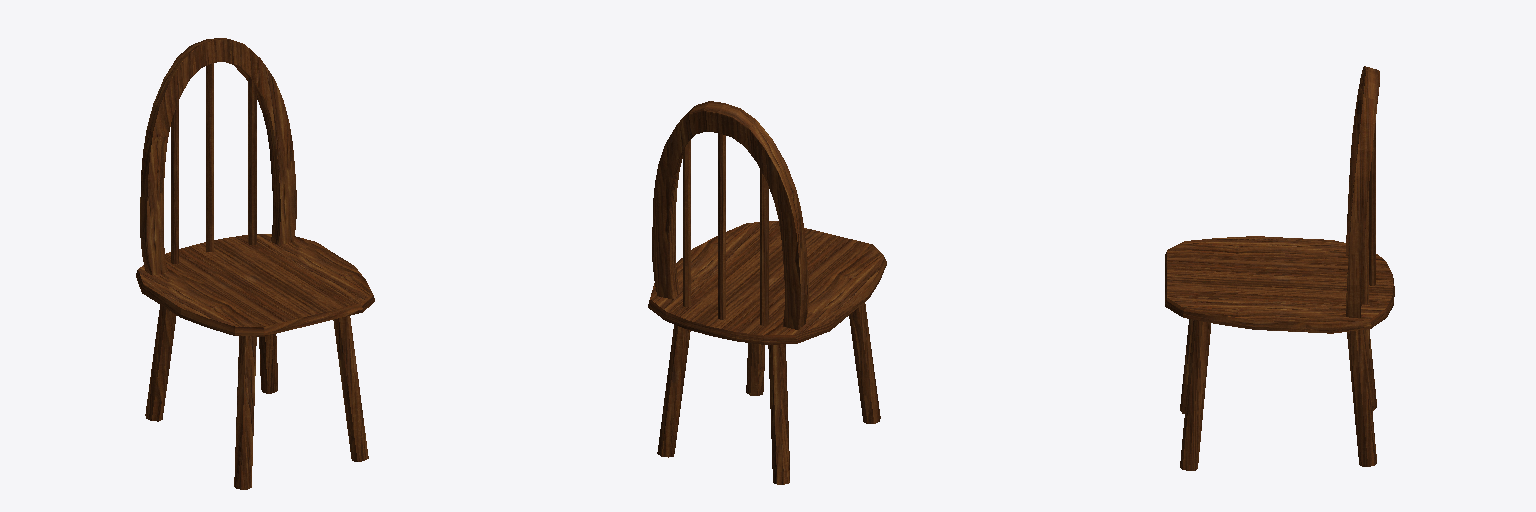
3 renders of one model, left to right at view 1: azimuth 30°, elevation 25°; view 2: azimuth 150°, elevation 25°; view 3: azimuth 270°, elevation 25°, orthographic.
Size of the model in its own units: 3.4 by 6.8 by 3.85.
1 materials, 1 textured.